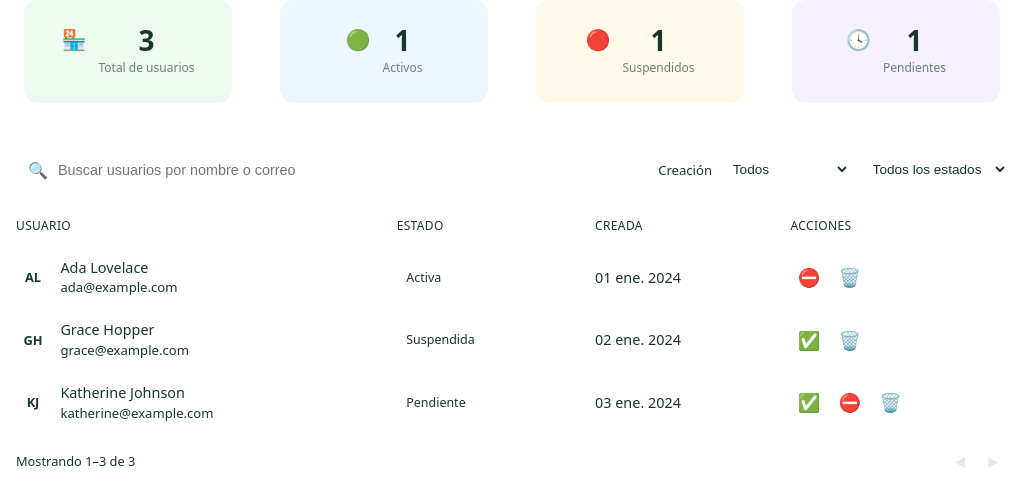
Test: panel de cuentas › combina búsqueda y estado, informa cuando no hay coincidencias y muestra conteos
Type "ada@example.com" into the field with placeholder "Buscar usuarios por nombre o correo" at (345, 170), box [56,161,634,179]
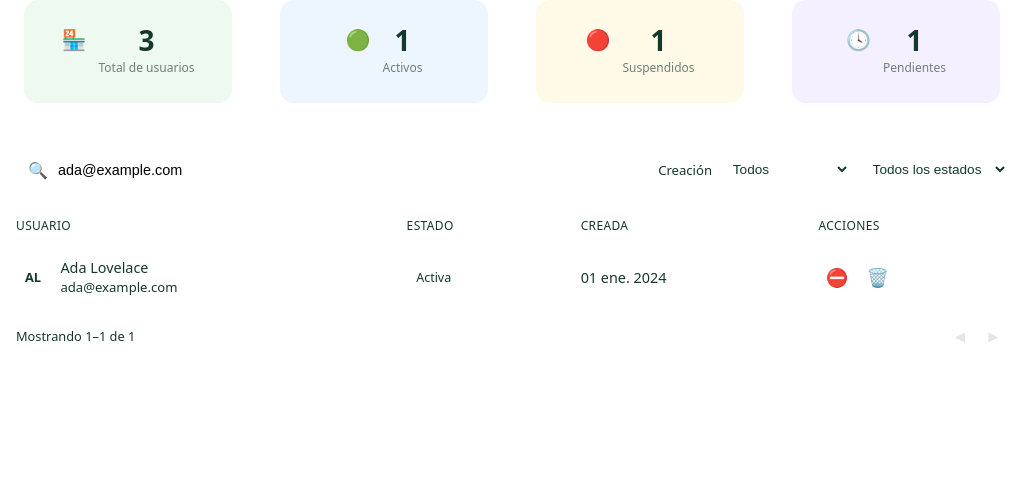
Select "Todos" in the dropdown named "Filtrar por fecha de creación" at (784, 170), box [718,153,850,186]
Select "Suspendida" in the dropdown named "Filtrar usuarios por estado" at (933, 170), box [858,153,1008,186]
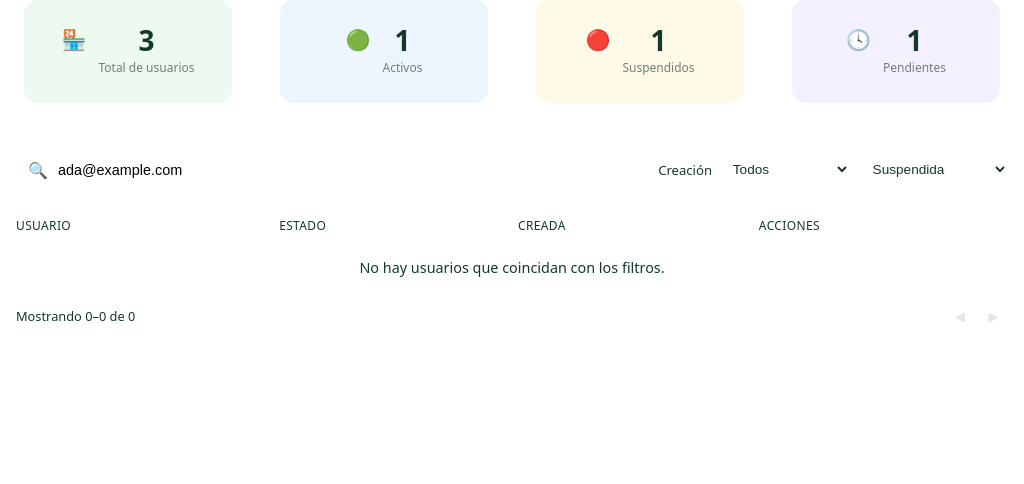
Now the text "No hay usuarios que coincidan con los filtros." is shown, box [0,246,1023,289]
Select "Todos los estados" in the dropdown named "Filtrar usuarios por estado" at (933, 170), box [858,153,1008,186]
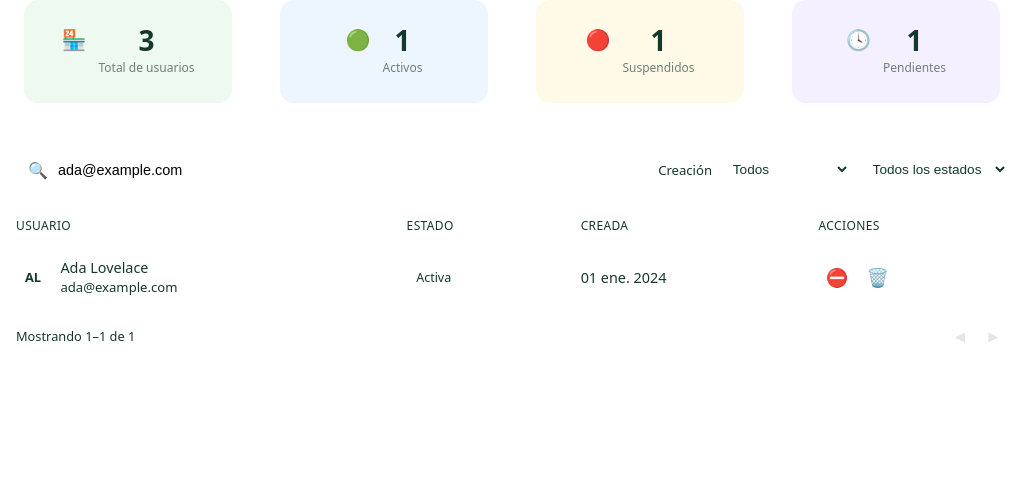
Now the text "Ada Lovelace" is shown, box [60,258,148,277]
